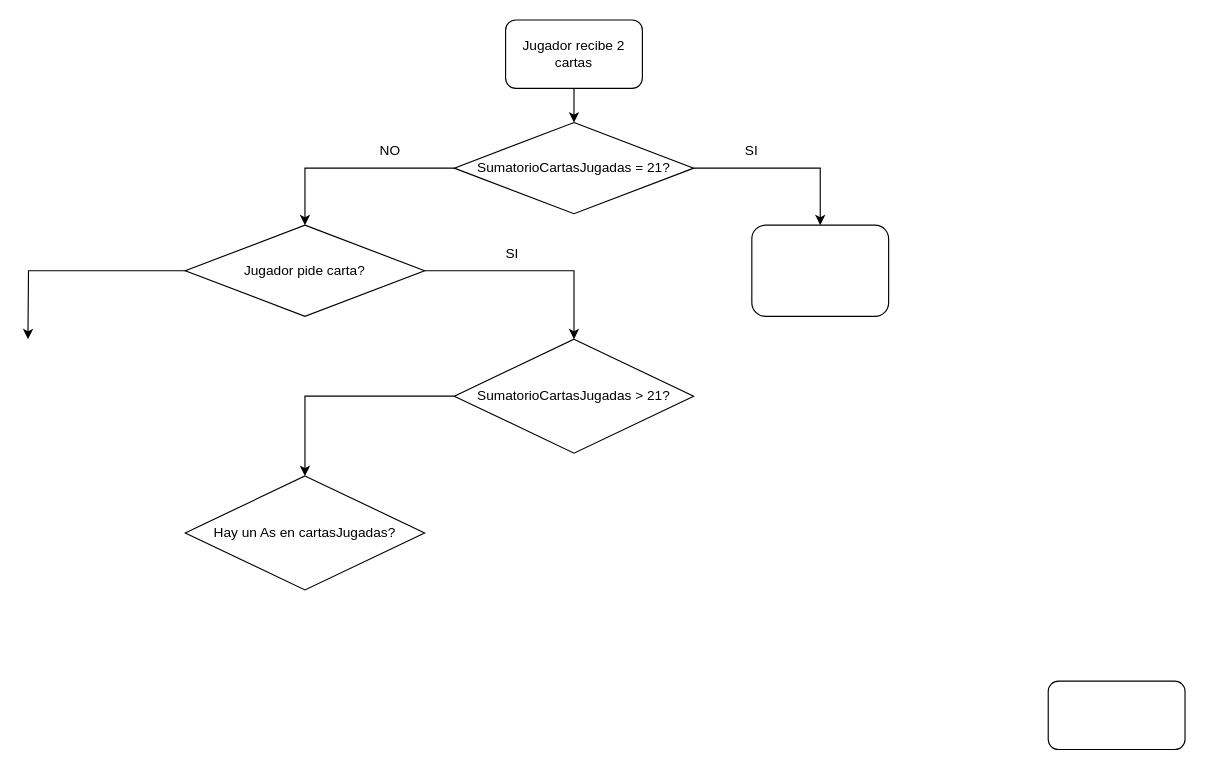
Some shapes in this 1205 by 770 pixel diagram are drawn without their labels. Each missing label, with the centre of its shape:
alert("BLACKJACK"): (x=820, y=270)
alert("PERDISTE"): (x=1116, y=715)
